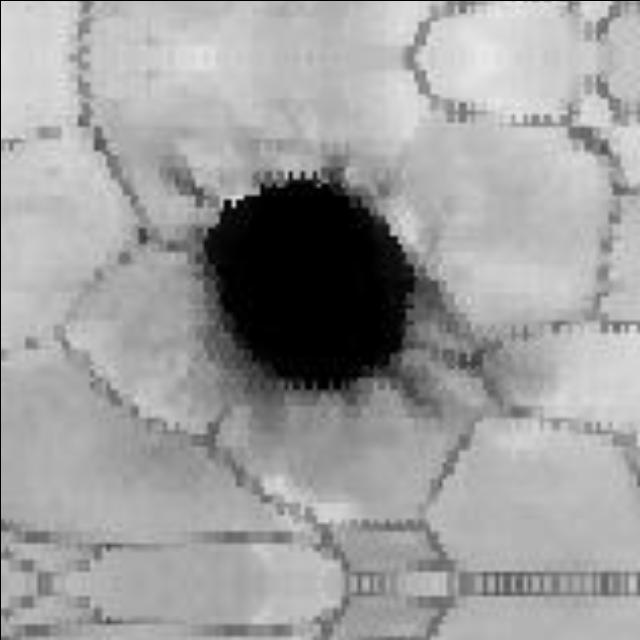good_void: (158, 155, 452, 422)
